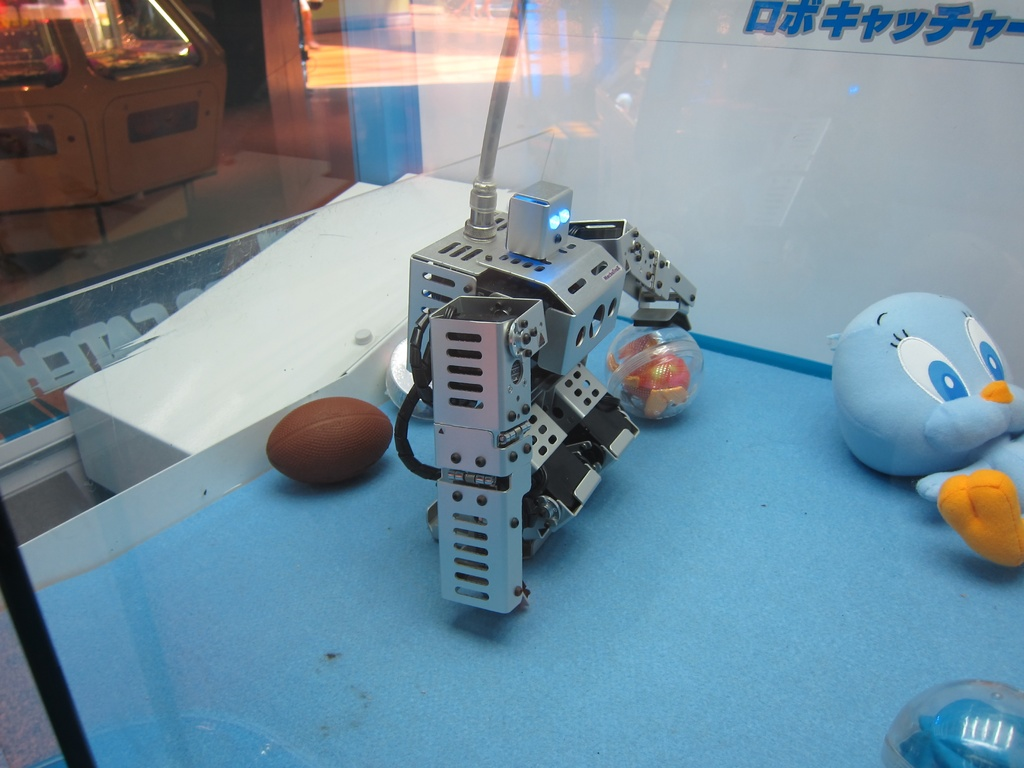Ball: (263, 398, 395, 486), (605, 323, 706, 419)
